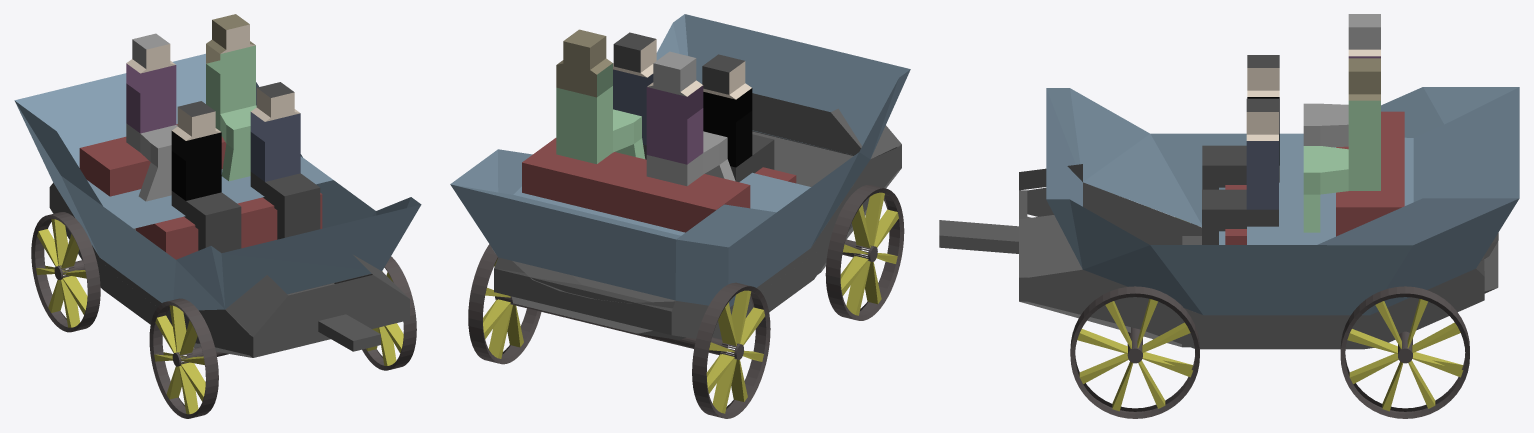
Rendered from horse-carriage-citycar.dae.
3 views of the same model, side by side, from view 1: azimuth 30°, elevation 25°; view 2: azimuth 150°, elevation 25°; view 3: azimuth 270°, elevation 25° (orthographic). The views are drawn at different scales.
Parts seen in each view (by area): view 1: Cube, Cylinder_008, Plane_014, Plane_017, Plane_015, Plane, Cylinder, Cube_004, Cube_001; view 2: Cube, Cylinder, Cube_001, Plane, Plane_015, Cylinder_008, Plane_017, Plane_014; view 3: Cube, Cylinder_008, Cylinder, Plane, Plane_014, Cube_001, Plane_015, Plane_017.
Boxes of the visible parts, <box> form: Cube: <box>14,53,421,357</box>; Cylinder_008: <box>149,256,416,418</box>; Plane_014: <box>250,82,320,239</box>; Plane_017: <box>171,101,241,253</box>; Plane_015: <box>126,33,177,229</box>; Plane: <box>206,14,256,181</box>; Cylinder: <box>31,212,100,332</box>; Cube_004: <box>136,193,322,259</box>; Cube_001: <box>79,124,226,196</box>; Cube: <box>450,14,910,339</box>; Cylinder: <box>468,244,770,418</box>; Cube_001: <box>522,138,750,232</box>; Plane: <box>556,29,645,164</box>; Plane_015: <box>646,51,735,186</box>; Cylinder_008: <box>825,185,904,320</box>; Plane_017: <box>702,54,774,181</box>; Plane_014: <box>613,32,656,159</box>; Cube: <box>939,87,1519,349</box>; Cylinder_008: <box>1070,219,1199,418</box>; Cylinder: <box>1340,286,1469,418</box>; Plane: <box>1303,58,1380,232</box>; Plane_014: <box>1202,98,1278,244</box>; Cube_001: <box>1336,111,1404,236</box>; Plane_015: <box>1303,14,1380,147</box>; Plane_017: <box>1202,55,1279,244</box>.
Size of the model in its own units: 1.39 by 2.87 by 1.76.
